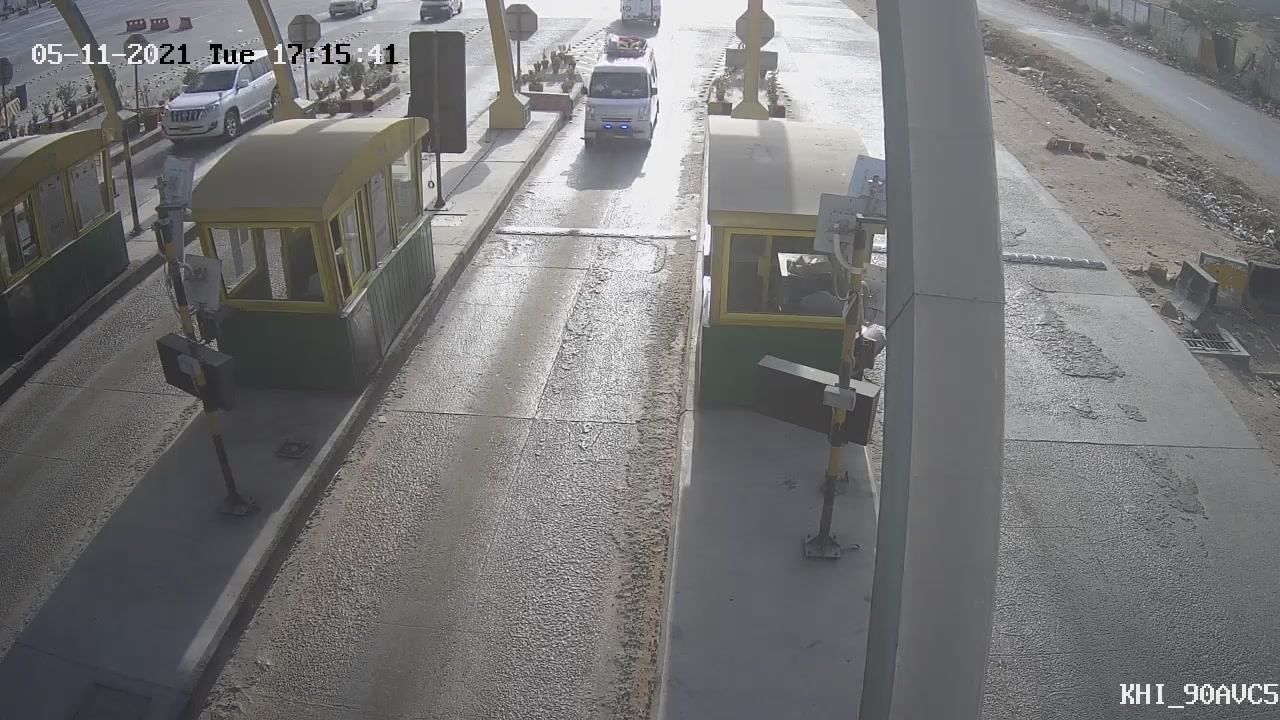F1: (568, 26, 673, 168)
